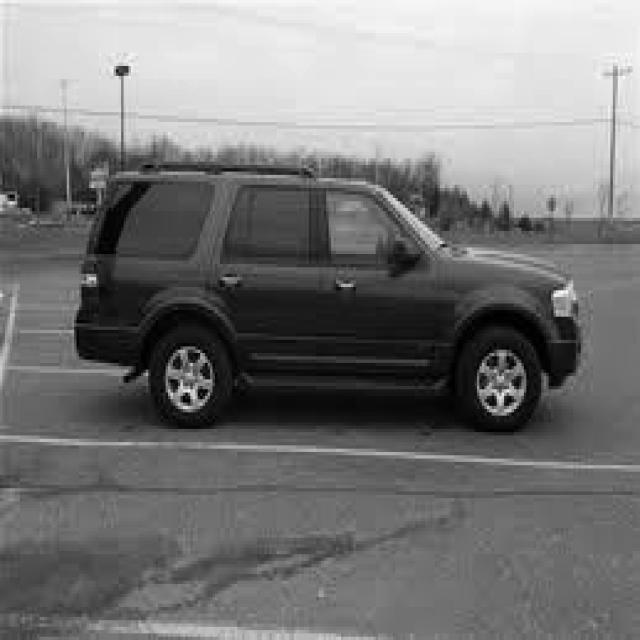car: (72, 158, 580, 432)
